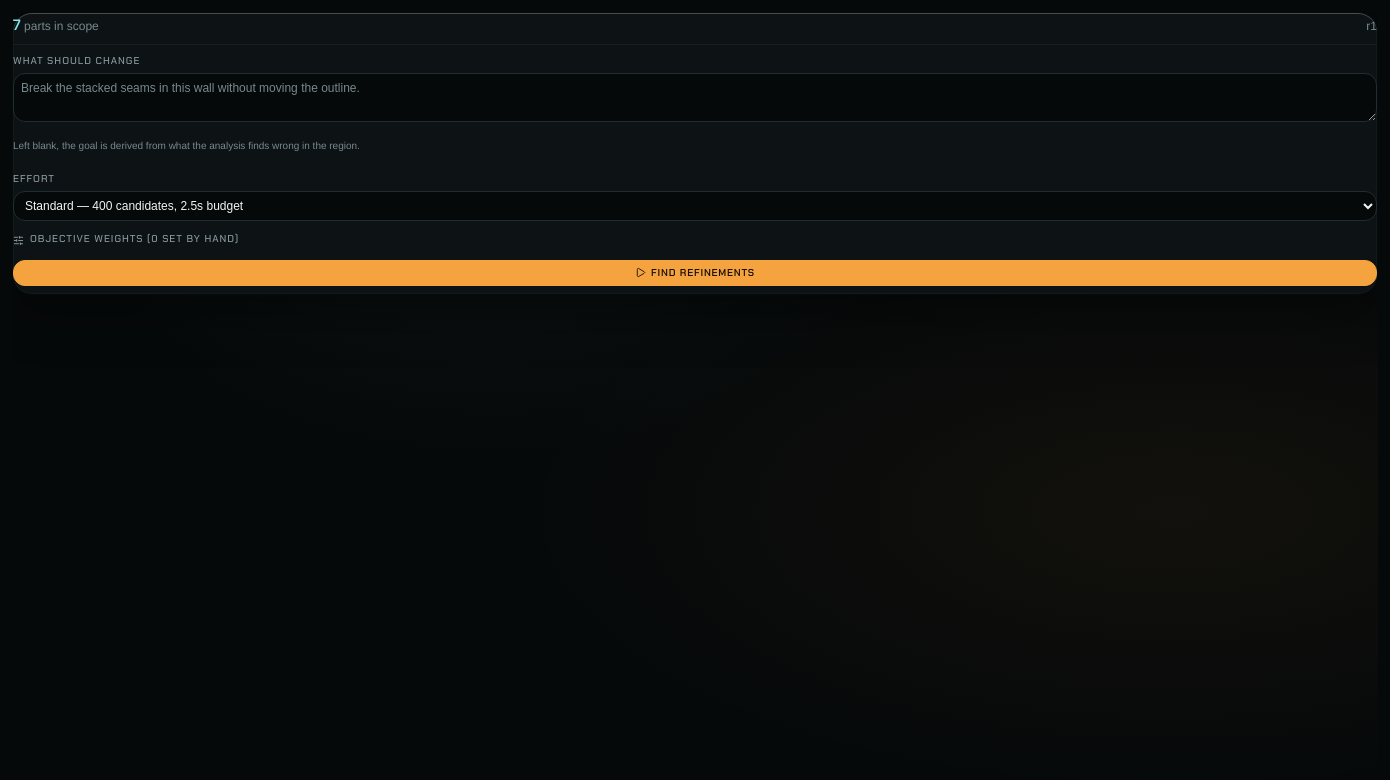
Test: cancel › stops the search, writes nothing, and offers to run again
Click the button "Find refinements" at [695, 273], box [13, 260, 1377, 286]
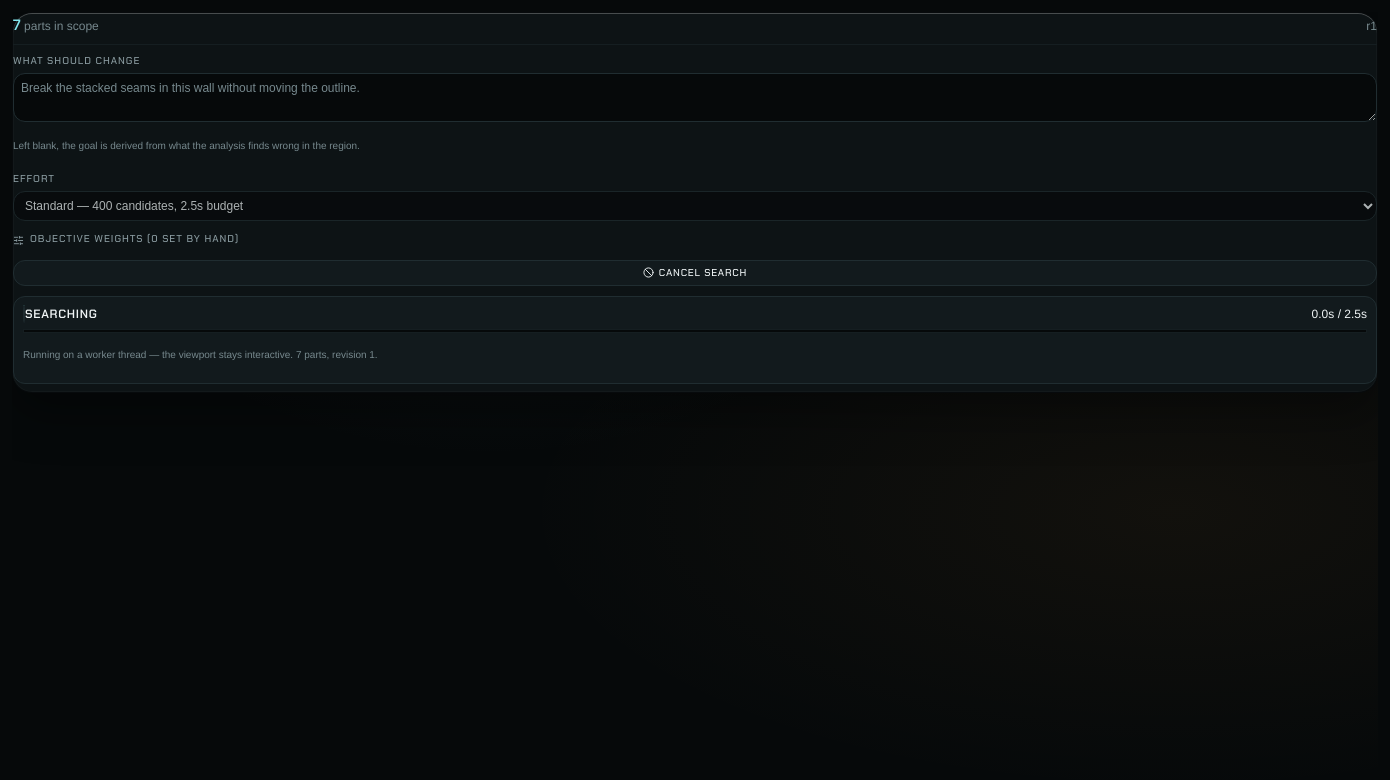
Click the button "Cancel search" at [695, 273], box [13, 260, 1377, 286]
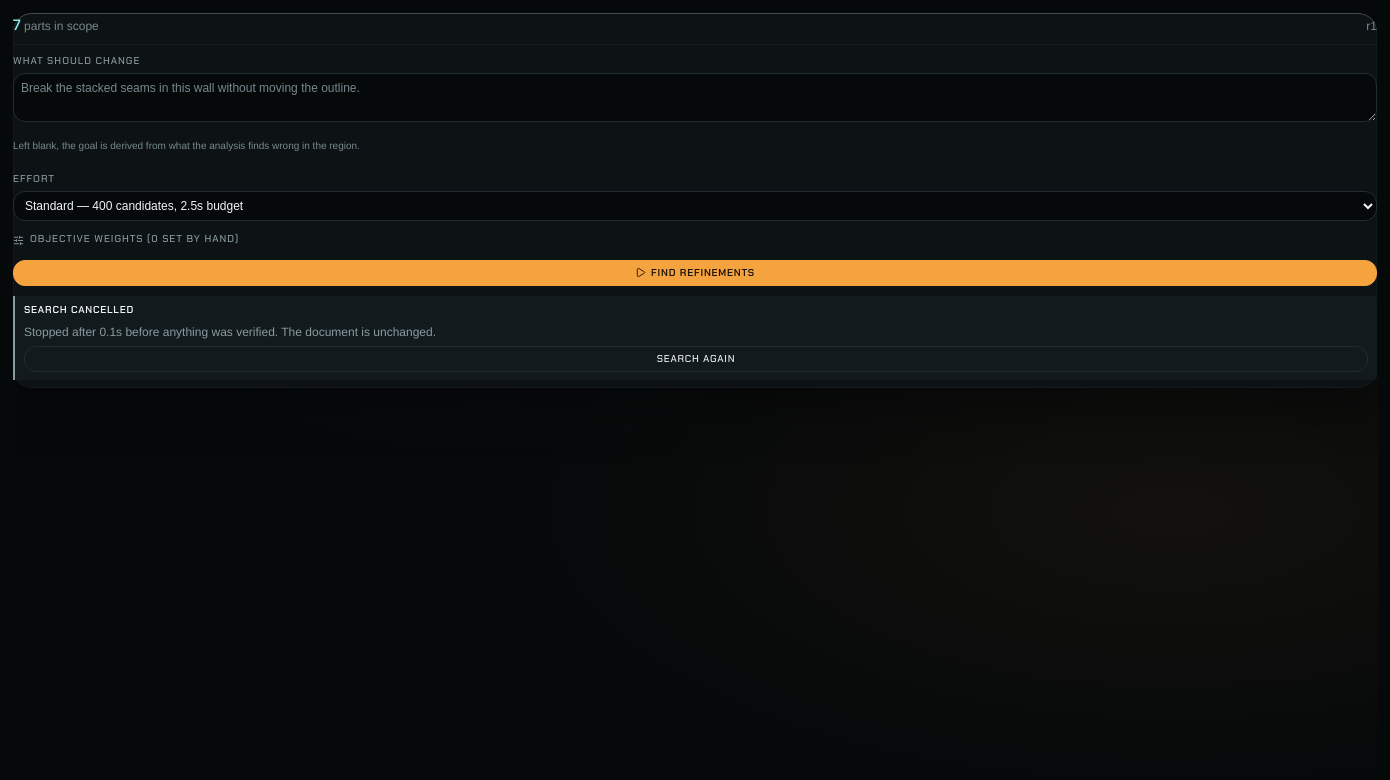
Now the text "Search cancelled" is shown, box [24, 304, 134, 317]
Now the text "before anything was verified. The document is unchanged" is shown, box [24, 324, 436, 338]
Now the button "Search again" is shown, box [24, 346, 1368, 372]
